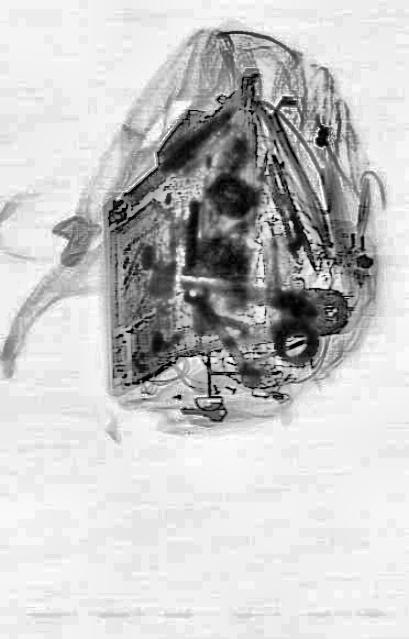Pliers: (176, 275, 346, 357)
Wrench: (182, 270, 264, 400)
